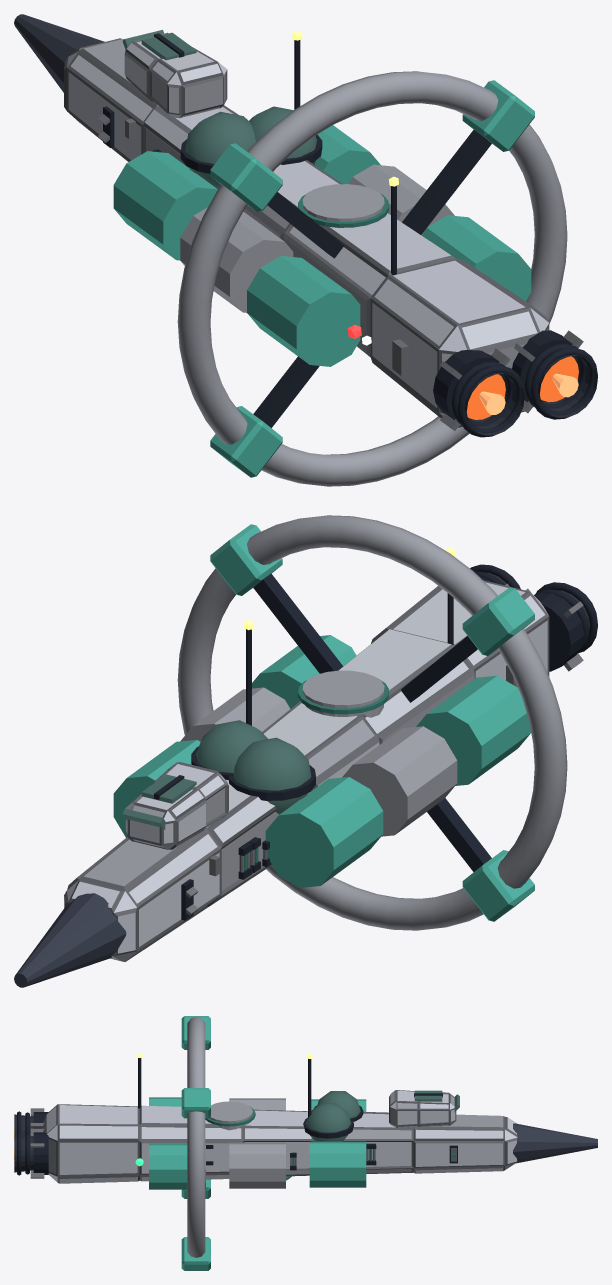
File: drifter.glb
The picture shows the model from 3 angles, top to bottom: view 1: azimuth 30°, elevation 25°; view 2: azimuth 150°, elevation 25°; view 3: azimuth 270°, elevation 25°; orthographic projection. The views are drawn at different scales.
Parts seen in each view (by area): view 1: drifter_mesh, ring_mesh; view 2: drifter_mesh, ring_mesh; view 3: drifter_mesh, ring_mesh.
Boxes of the visible parts, box(x1,y1,x2,y2) form: drifter_mesh: box(14, 14, 597, 437); ring_mesh: box(177, 71, 567, 486); drifter_mesh: box(14, 548, 597, 987); ring_mesh: box(177, 515, 567, 930); drifter_mesh: box(14, 1052, 597, 1189); ring_mesh: box(181, 1016, 210, 1270).
Size of the model in its own units: 4.84 by 4.84 by 11.12.
